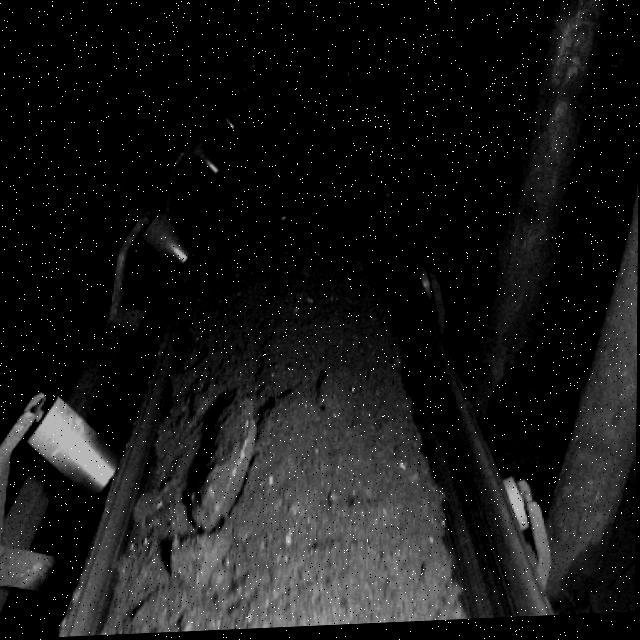large_sized_coal: (188, 400, 259, 518)
